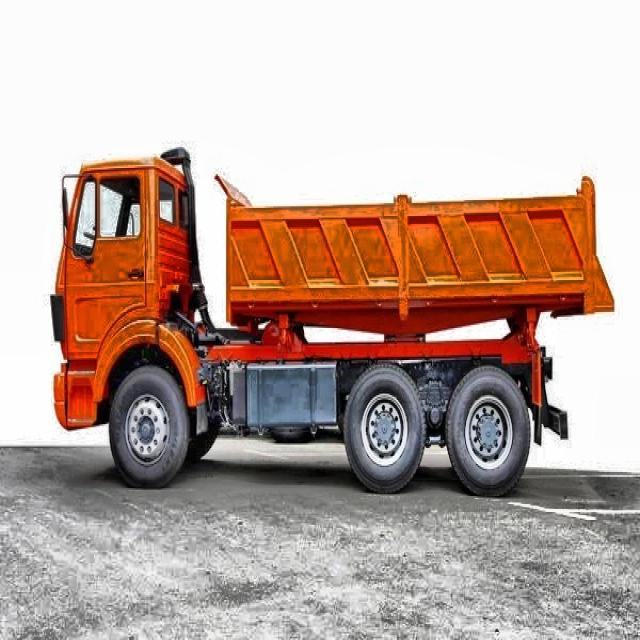dump_truck: (39, 143, 618, 502)
